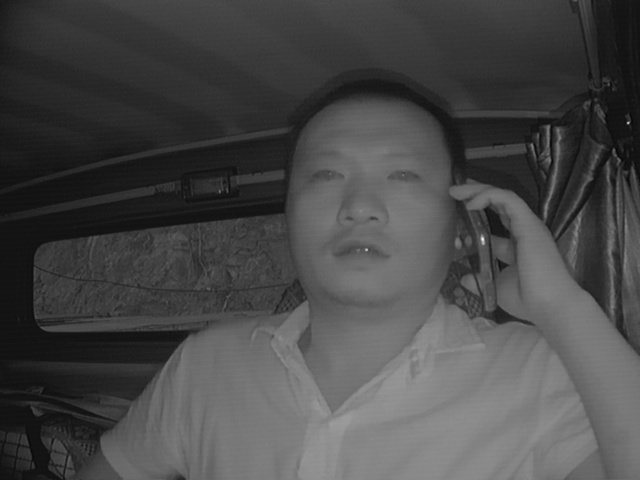hand: (450, 182, 555, 325)
